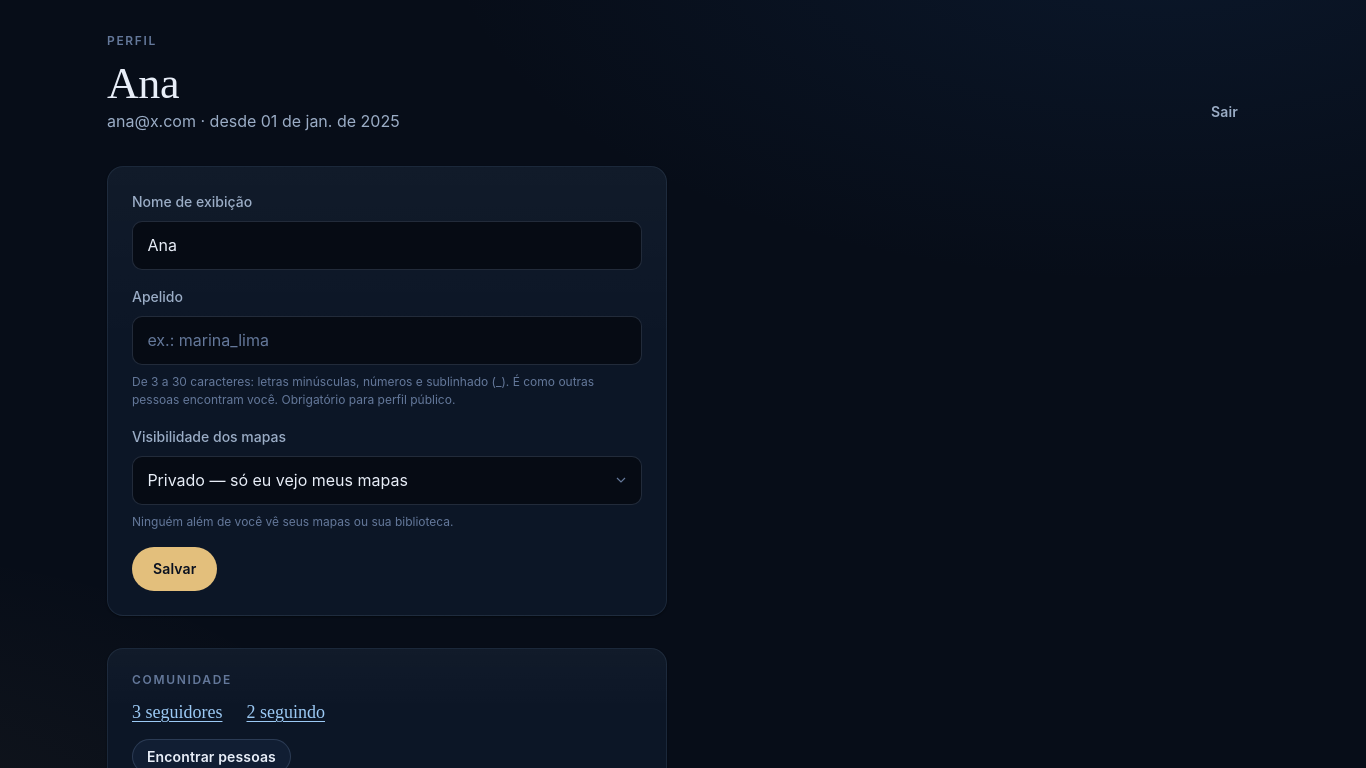
Test: ProfilePage: apelido e visibilidade pública › erro profile.handle_required da API aparece no campo do apelido
The image size is (1366, 768).
Type "marina_lima" into the field with test id "handle-input" at {"x": 387, "y": 340}, box [132,316,642,365]
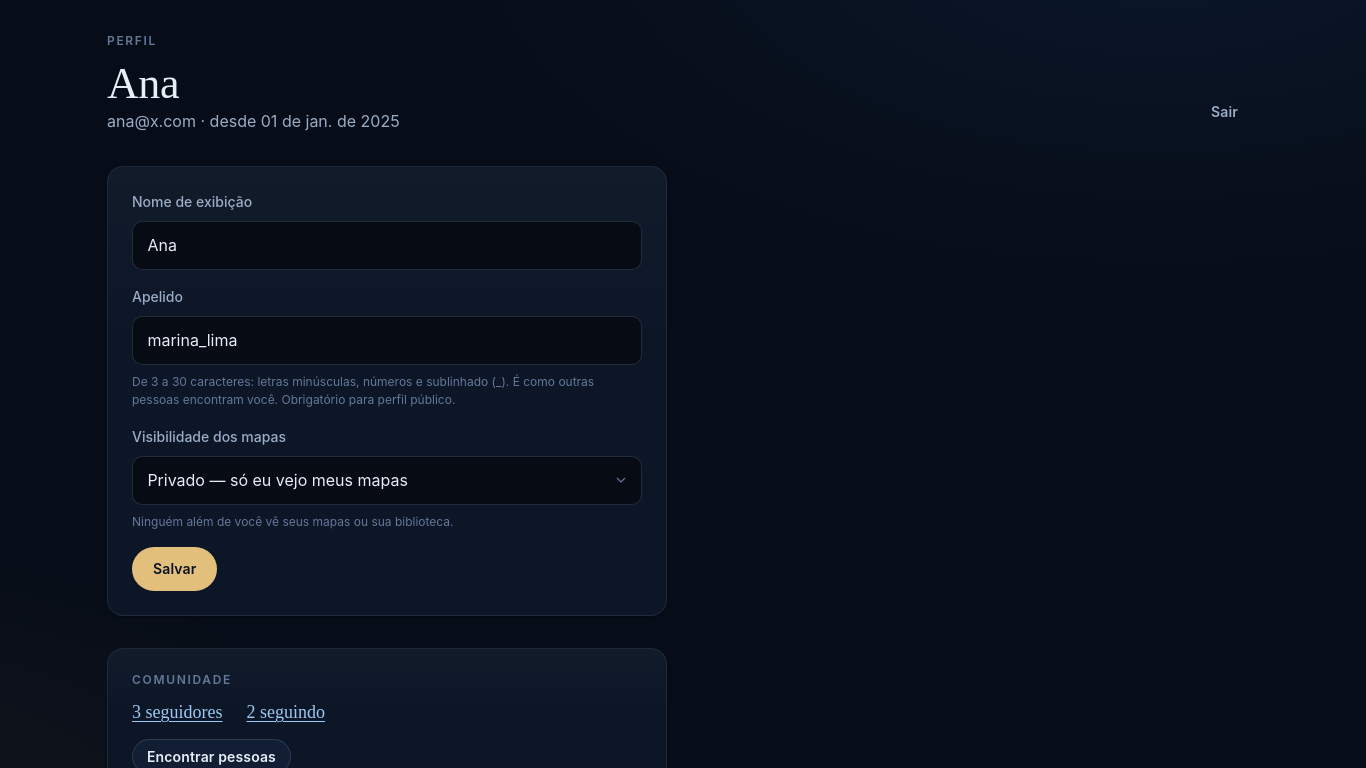
Submit the form, box [132,191,642,591]
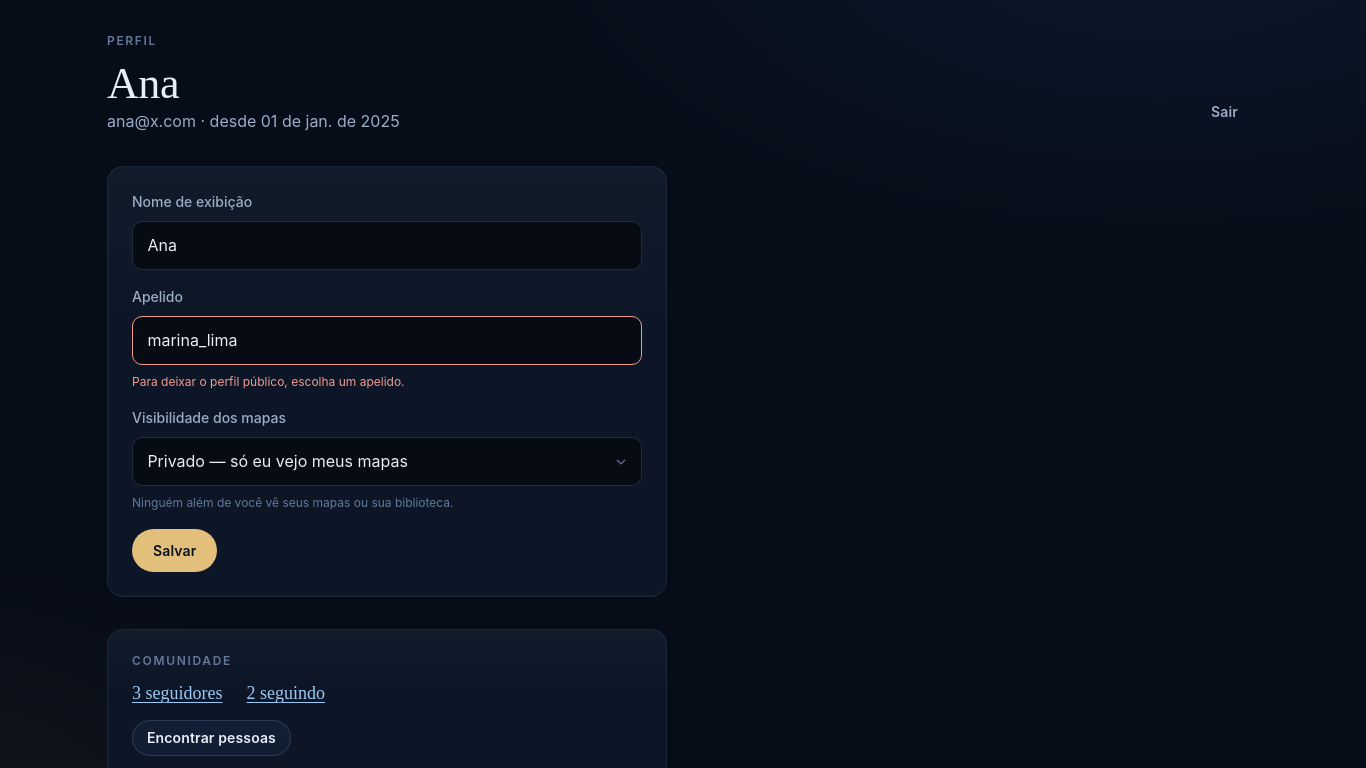
Expected: the message with class "field__error" shows "escolha um apelido", [132,374,405,389]
